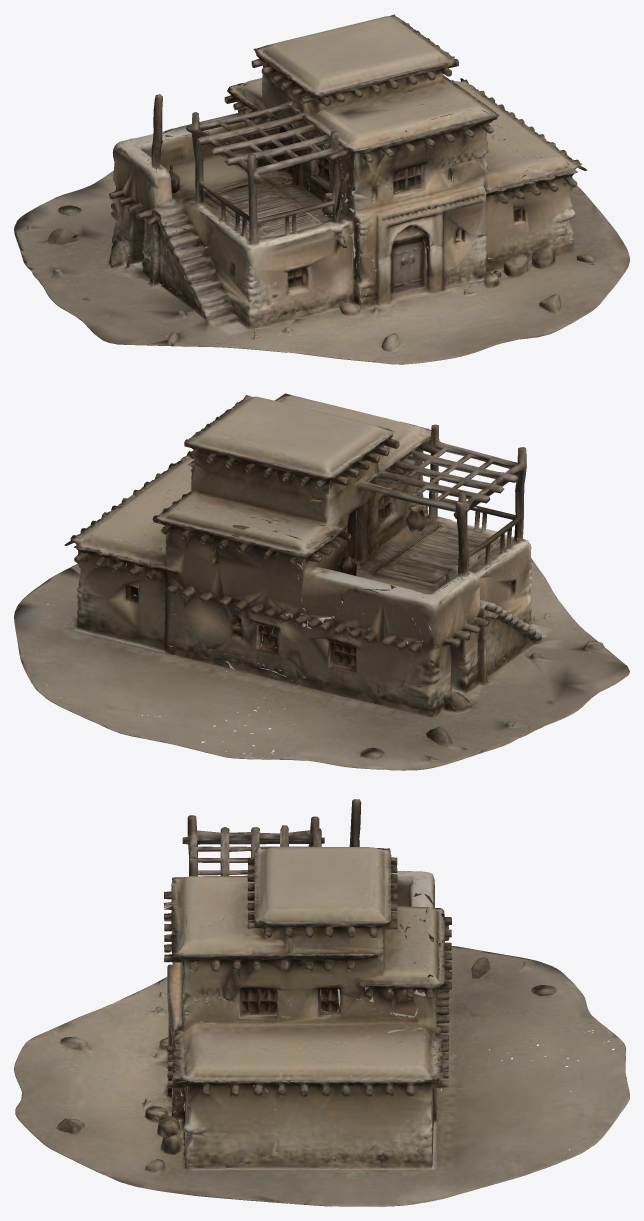
The model's file is kasbah.glb.
The picture shows the model from 3 angles, top to bottom: view 1: azimuth 30°, elevation 25°; view 2: azimuth 150°, elevation 25°; view 3: azimuth 270°, elevation 25°; orthographic projection. The views are drawn at different scales.
Visible parts, largest first — view 1: Object_5, Object_9, Object_16, Object_12, Object_13, Object_4, Object_8, Object_7, Object_15, Object_11, Object_17, Object_10 (+2 smaller); view 2: Object_6, Object_7, Object_14, Object_15, Object_4, Object_16, Object_13, Object_8, Object_10, Object_17, Object_12, Object_9 (+2 smaller); view 3: Object_4, Object_6, Object_5, Object_14, Object_15, Object_10, Object_12, Object_8, Object_9, Object_7, Object_11, Object_17 (+2 smaller).
Part boxes in pixels (<box>): Object_5: <box>353,82,577,285</box>; Object_9: <box>110,94,560,364</box>; Object_16: <box>33,79,354,345</box>; Object_12: <box>20,187,622,361</box>; Object_13: <box>155,106,619,346</box>; Object_4: <box>264,14,492,187</box>; Object_8: <box>175,111,622,352</box>; Object_7: <box>218,86,595,294</box>; Object_15: <box>14,78,360,252</box>; Object_11: <box>32,108,629,294</box>; Object_17: <box>104,62,486,236</box>; Object_10: <box>48,128,606,352</box>; Object_6: <box>31,438,400,718</box>; Object_7: <box>44,401,531,718</box>; Object_14: <box>64,448,433,703</box>; Object_15: <box>126,474,480,770</box>; Object_4: <box>170,395,394,526</box>; Object_16: <box>20,529,629,759</box>; Object_13: <box>323,425,593,662</box>; Object_8: <box>14,452,597,680</box>; Object_10: <box>20,510,559,744</box>; Object_17: <box>33,444,520,759</box>; Object_12: <box>152,507,557,753</box>; Object_9: <box>273,501,604,751</box>; Object_4: <box>178,847,430,1031</box>; Object_6: <box>167,848,599,1185</box>; Object_5: <box>167,953,432,1139</box>; Object_14: <box>186,898,449,1160</box>; Object_15: <box>320,894,605,1089</box>; Object_10: <box>115,871,474,1206</box>; Object_12: <box>15,901,493,1175</box>; Object_8: <box>70,825,526,1204</box>; Object_9: <box>14,799,586,1146</box>; Object_7: <box>117,857,595,1164</box>; Object_11: <box>106,816,581,1206</box>; Object_17: <box>164,858,629,1159</box>.
Size of the model in its own units: 1.08 by 0.3901 by 1.03.
Materials: 1 (1 with a texture image).
